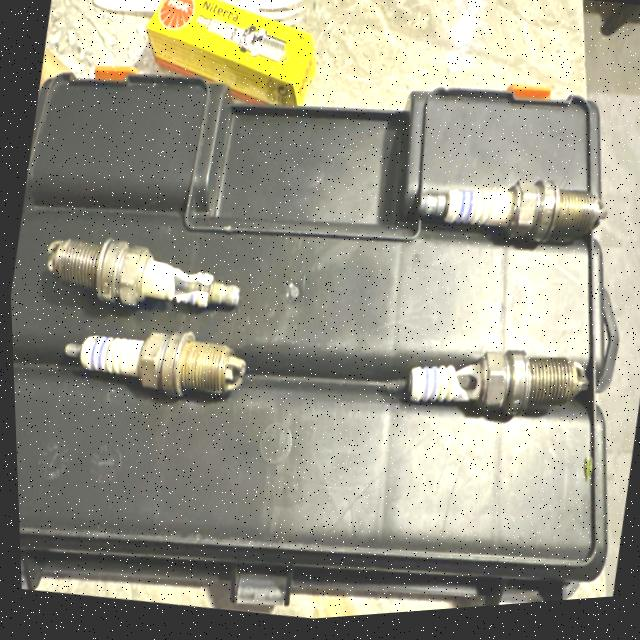damaged_spark-plug: (28, 208, 248, 335), (380, 329, 594, 445)
spark-plug: (42, 298, 251, 427), (406, 155, 612, 270)
